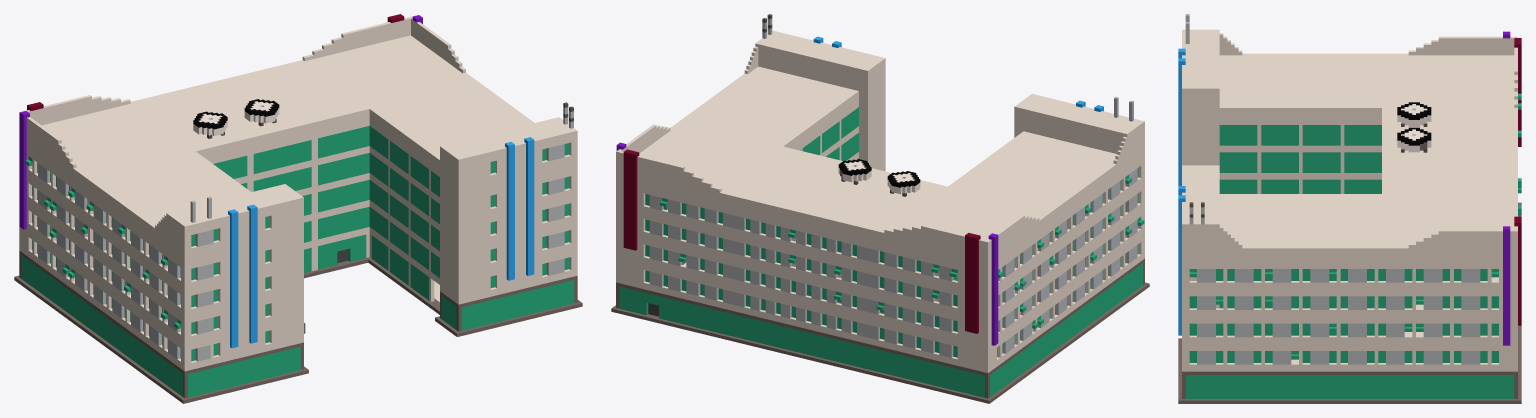
The model's file is start-up-zone-zhi-xin.obj.
3 renders of one model, left to right at view 1: azimuth 30°, elevation 25°; view 2: azimuth 150°, elevation 25°; view 3: azimuth 270°, elevation 25°, orthographic. The views are drawn at different scales.
Size of the model in its own units: 12.4 by 5.8 by 9.1.
1 material, 1 textured.
